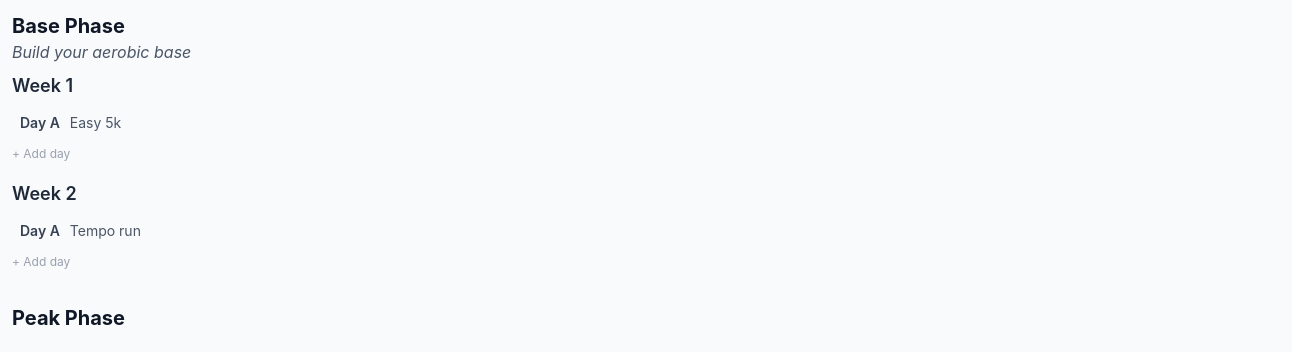
Test: PlanView › clicking + Add day opens inline form with label buttons A-G
The width and height of the screenshot is (1292, 352).
Step 1. Click the button titled "Add a day to this week" below "Easy 5k" → click(41, 154), box [12,146,70,162]
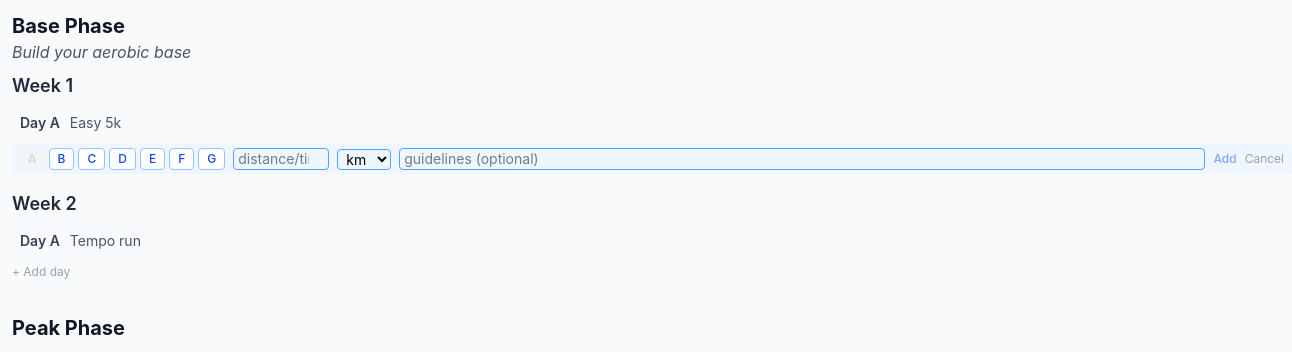
expect the button "A" is shown: met, box [20,148,44,170]
expect the button "B" is shown: met, box [48,148,74,170]
expect the button "G" is shown: met, box [198,148,225,170]
